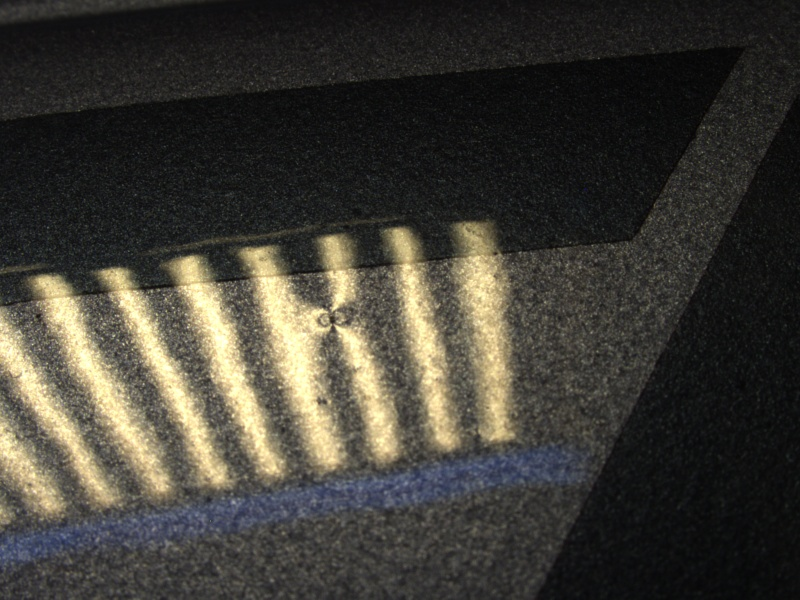bad: (303, 293, 363, 341)
